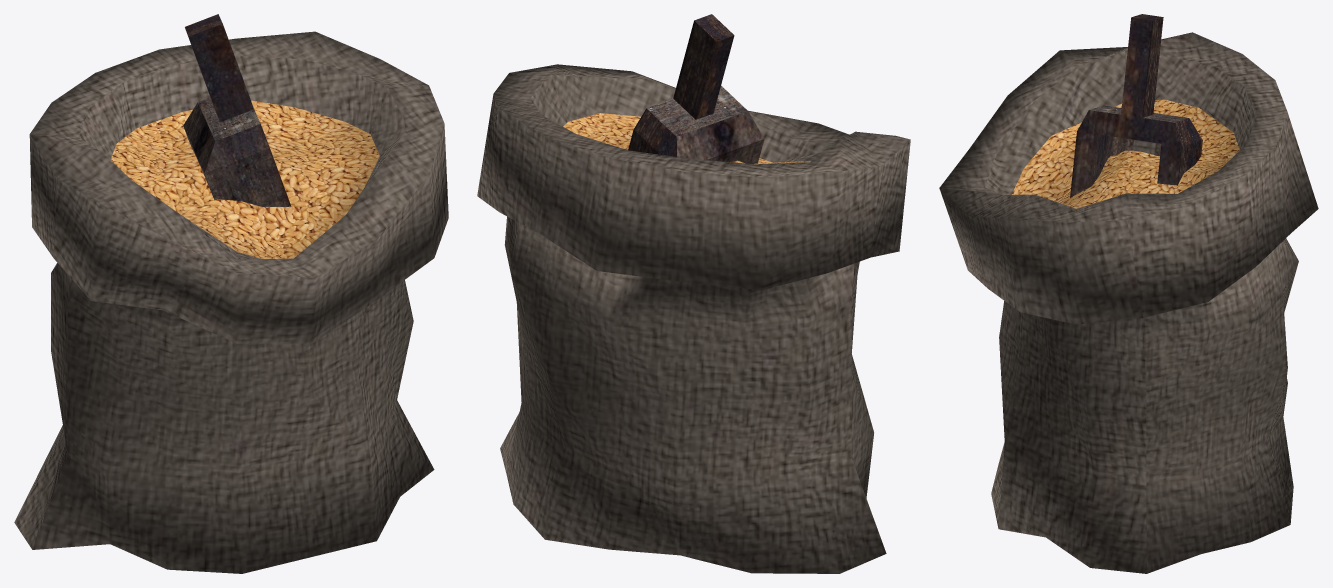
Rendered from open_sack.fbx.
3 views of the same model, side by side, from view 1: azimuth 30°, elevation 25°; view 2: azimuth 150°, elevation 25°; view 3: azimuth 270°, elevation 25° (orthographic). The views are drawn at different scales.
Parts seen in each view (by area): view 1: Sack2_1; view 2: Sack2_1; view 3: Sack2_1.
Boxes of the visible parts, bbox=[...] form: Sack2_1: bbox=[14, 14, 448, 573]; Sack2_1: bbox=[477, 14, 910, 573]; Sack2_1: bbox=[939, 14, 1318, 573].
Size of the model in its own units: 0.3442 by 0.4127 by 0.299.
